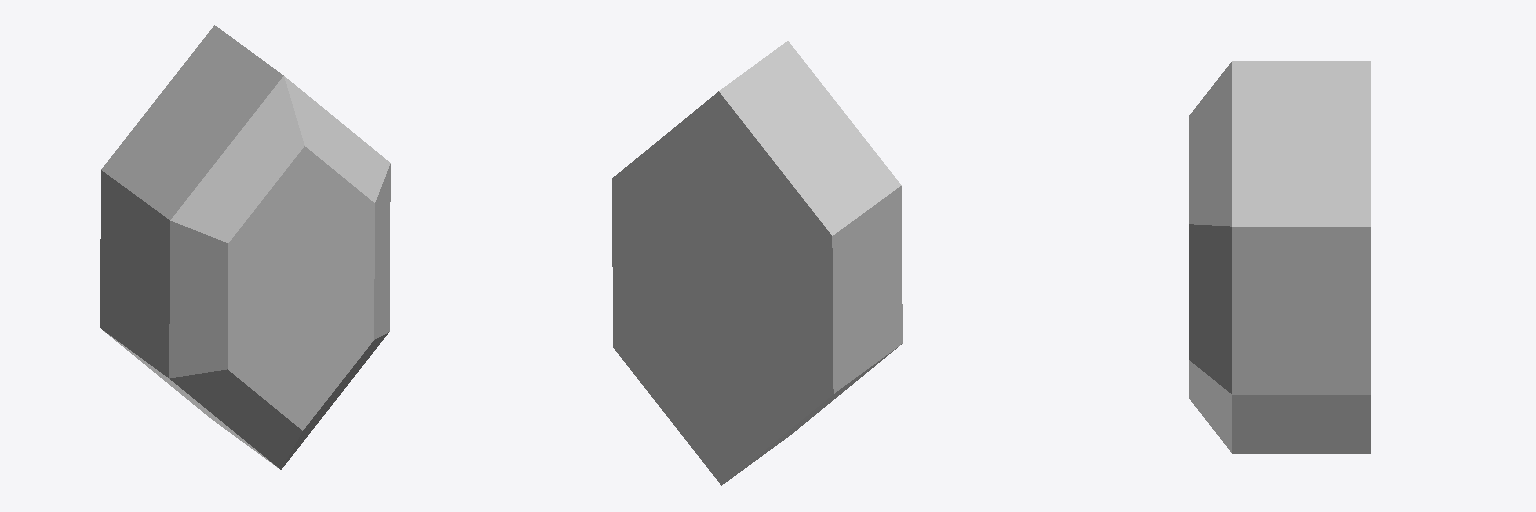
Rendered from MyObject1.obj.
3 renders of one model, left to right at view 1: azimuth 30°, elevation 25°; view 2: azimuth 150°, elevation 25°; view 3: azimuth 270°, elevation 25°, orthographic.
Visible parts, largest first — view 1: Cube; view 2: Cube; view 3: Cube.
Boxes of the visible parts, x1,y1,x2,y2 form: Cube: [100, 25, 390, 469]; Cube: [612, 41, 902, 485]; Cube: [1189, 61, 1370, 453].
Bounding box in the file's own units: 1.67 × 2.83 × 1.18.